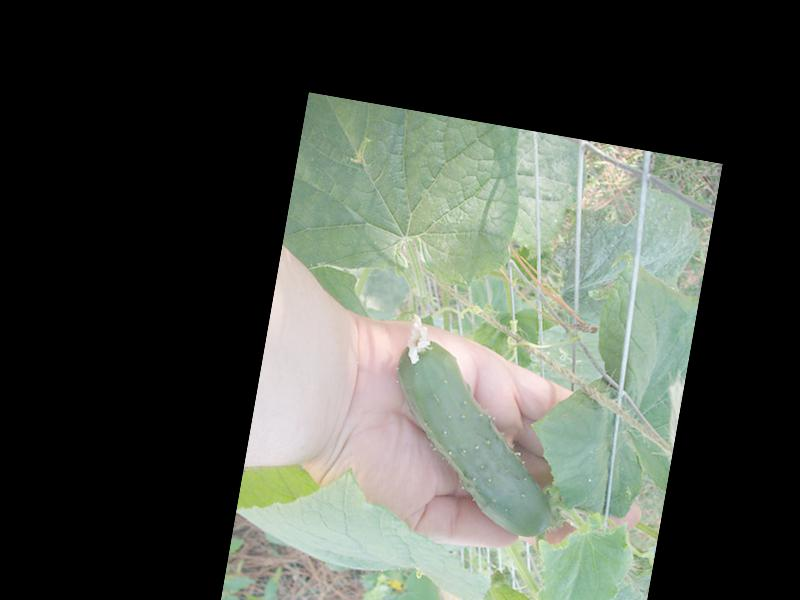Cucumber: (373, 311, 581, 538)
